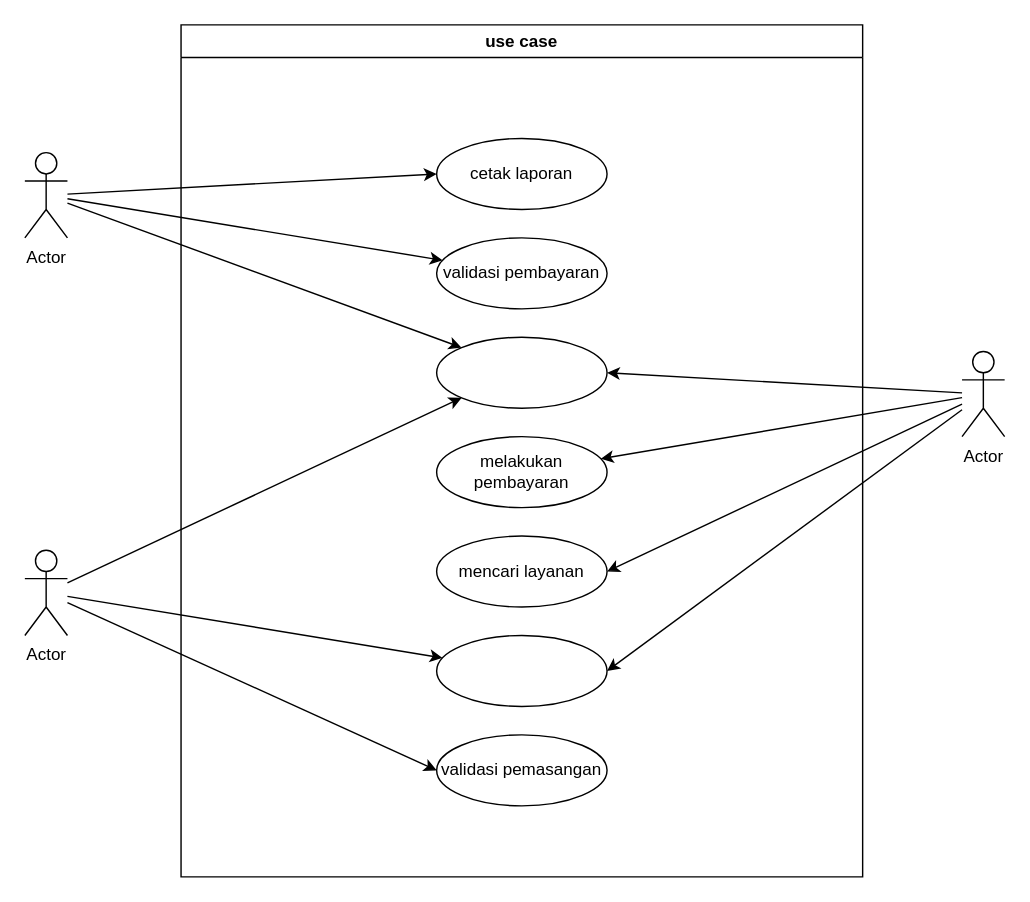
Some shapes in this 1030 by 902 pixel diagram are drawn without their labels. Here are the shapes that lost their labels. From the top down, the centre of each, then its label:
[521,372]: login
[521,670]: mengisi data yang diperlukan
